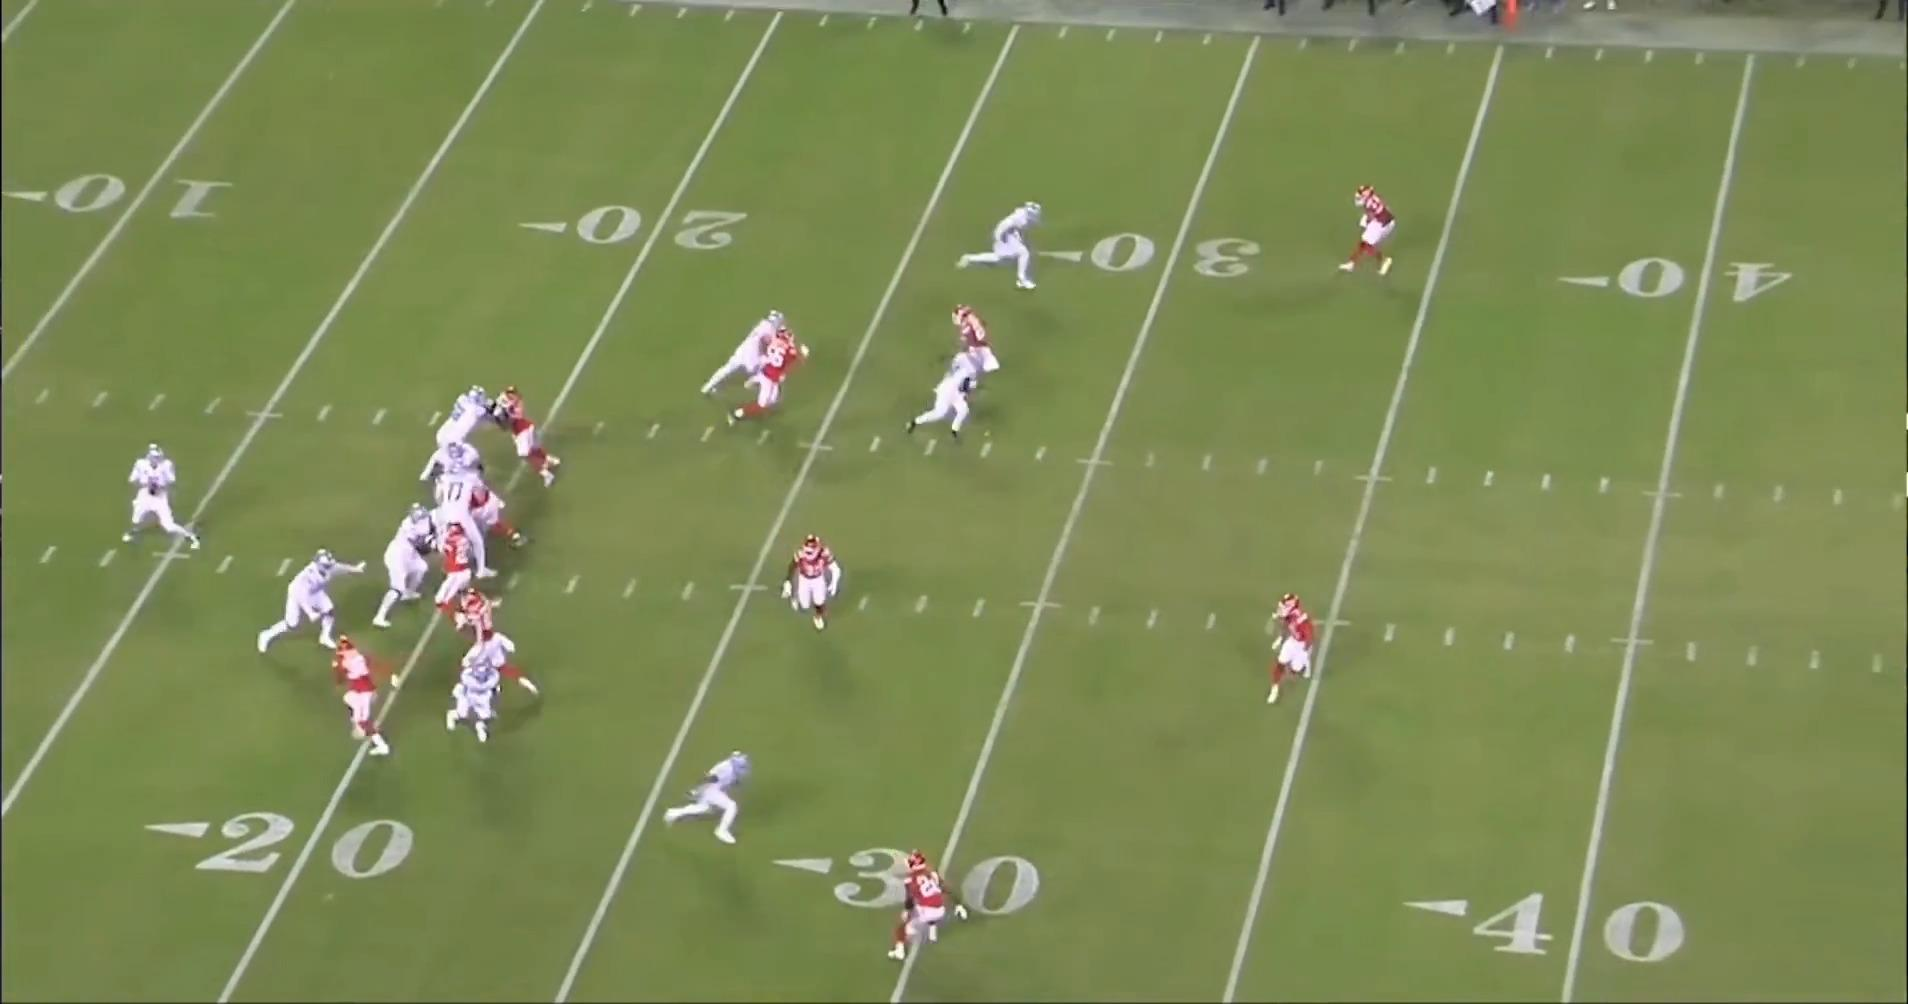defense: (459, 588, 545, 696), (328, 635, 400, 760), (483, 384, 561, 490), (885, 850, 953, 969), (732, 335, 809, 436), (1266, 587, 1329, 706), (449, 467, 529, 555), (419, 510, 475, 628), (791, 535, 851, 639), (1333, 181, 1393, 280), (952, 304, 1009, 386)
oline: (248, 542, 358, 653), (366, 505, 442, 633), (422, 458, 493, 583), (410, 385, 490, 490), (416, 437, 488, 484)
qb: (119, 445, 206, 557)
ref: (904, 0, 962, 24)
skill: (663, 750, 756, 850), (699, 309, 787, 405), (971, 199, 1053, 295), (906, 348, 988, 443), (442, 647, 512, 751)
